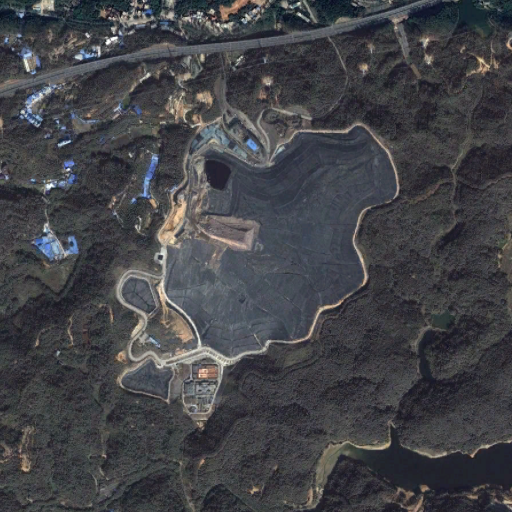lf: (161, 123, 401, 360)
